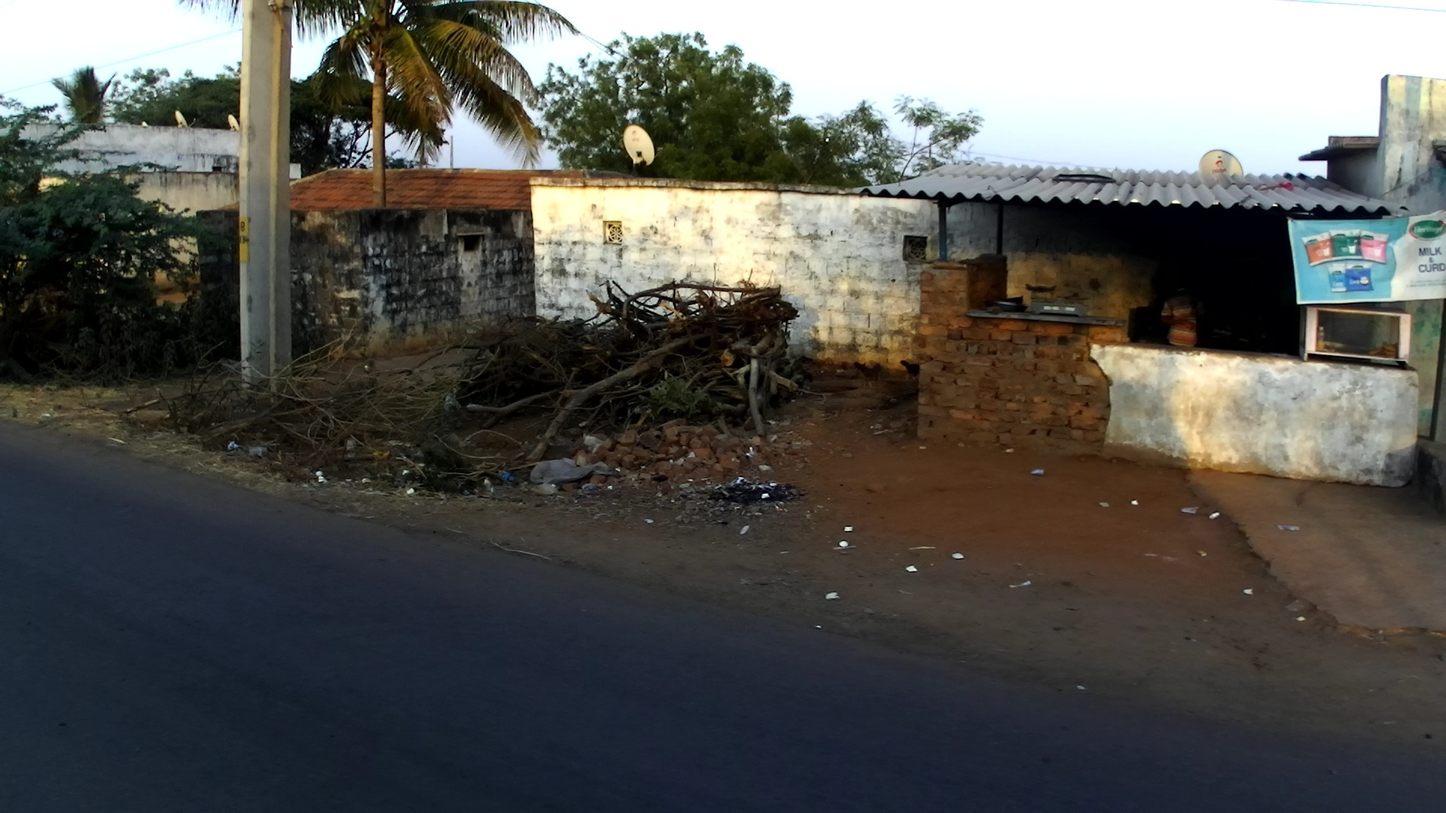person: (1157, 276, 1209, 359)
